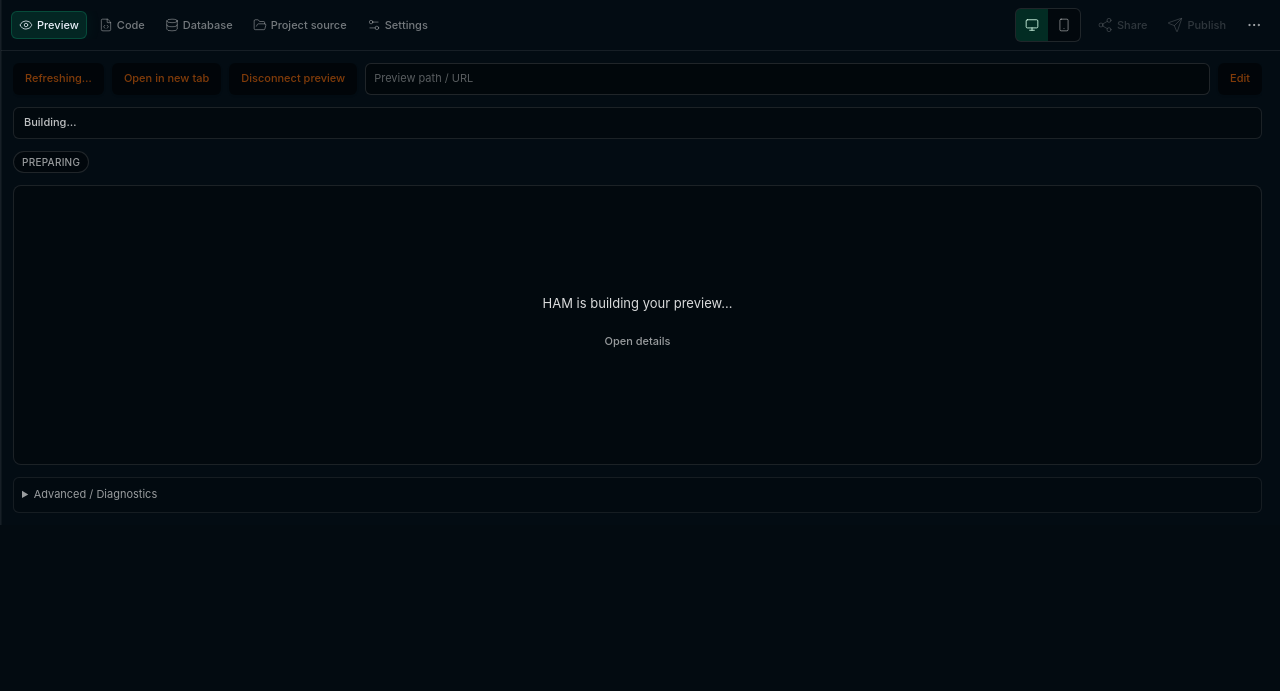
Scenario: WorkspaceWorkbench › Preview renders activity timeline entries from API
Click the heading "Advanced / Diagnostics": (95, 494) 34,487 -> 157,501
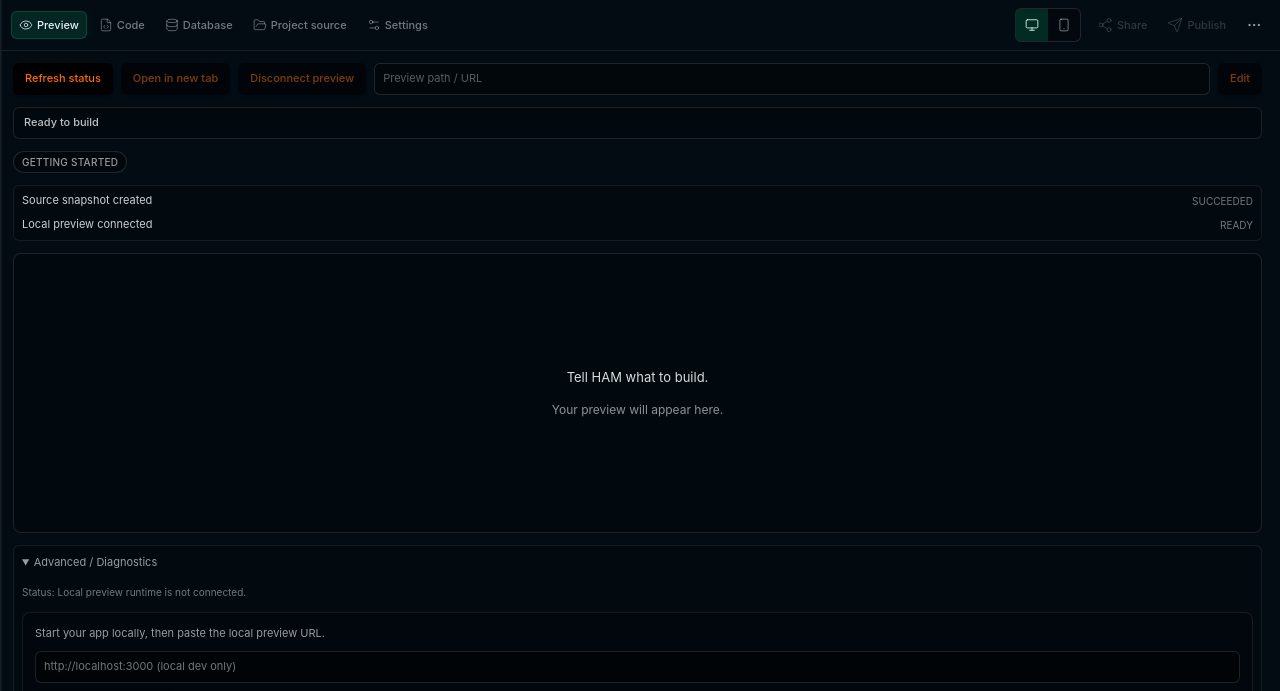
Now the text "Source snapshot created" is shown, box 22,192 -> 152,210
Now the text "Local preview connected" is shown, box 22,216 -> 152,234
